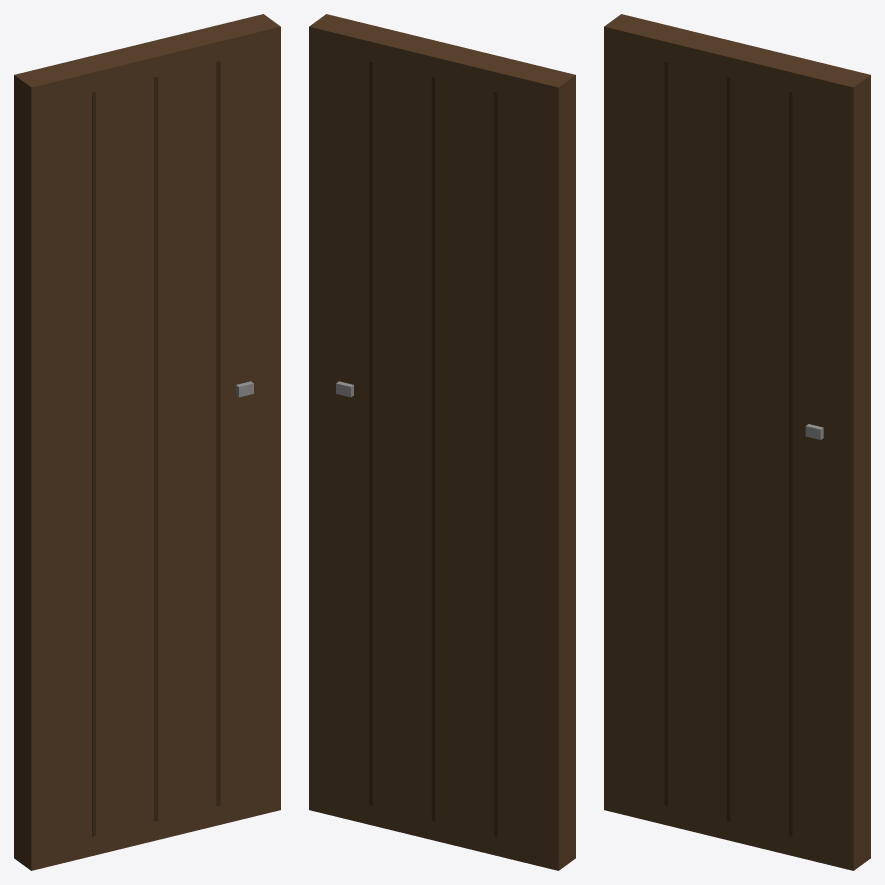
File: door.glb
3 renders of one model, left to right at view 1: azimuth 30°, elevation 25°; view 2: azimuth 150°, elevation 25°; view 3: azimuth 330°, elevation 25°, orthographic.
Visible parts, largest first — view 1: door; view 2: door; view 3: door.
Boxes of the visible parts, x1,y1,x2,y2 form: door: (14, 14, 280, 870); door: (309, 14, 575, 870); door: (604, 14, 870, 870).
Bounding box in the file's own units: 1 × 3 × 0.16.
